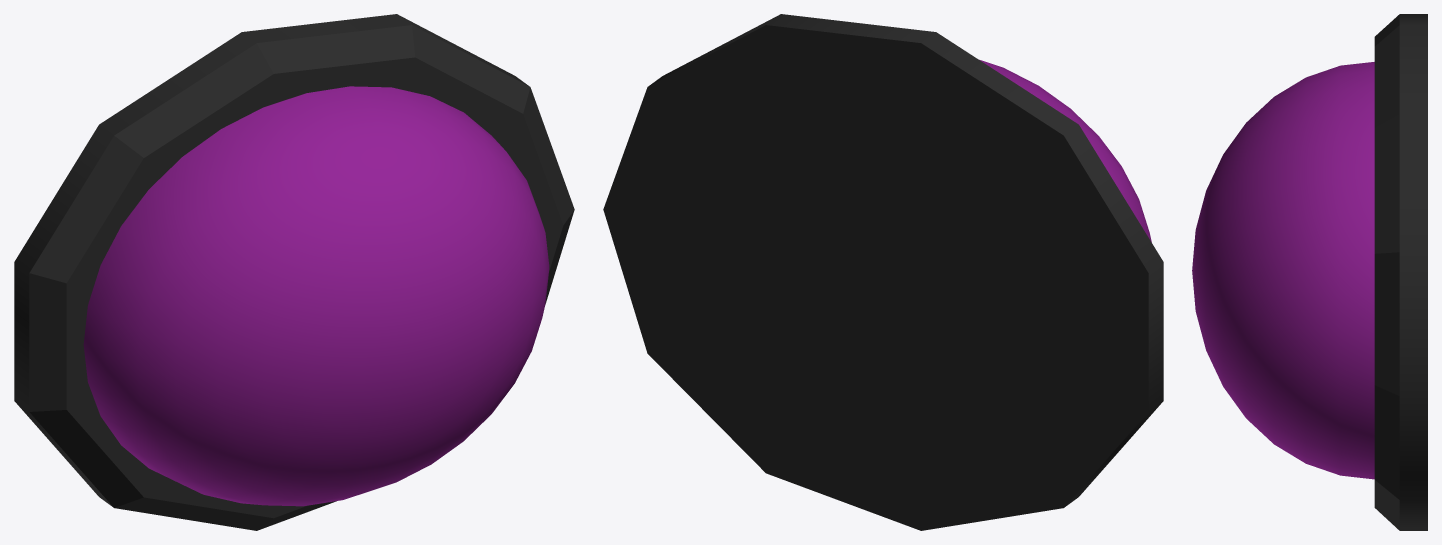
File: light.FBX
3 views of the same model, side by side, from view 1: azimuth 30°, elevation 25°; view 2: azimuth 150°, elevation 25°; view 3: azimuth 270°, elevation 25° (orthographic). The views are drawn at different scales.
Visible parts, largest first — view 1: Sphere005, Light; view 2: Light, Sphere005; view 3: Sphere005, Light.
Boxes of the visible parts, box(x1,y1,x2,y2) form: Sphere005: box(83, 86, 549, 506); Light: box(14, 14, 574, 530); Light: box(603, 14, 1163, 530); Sphere005: box(979, 59, 1151, 242); Sphere005: box(1192, 62, 1374, 479); Light: box(1374, 14, 1427, 530).
Size of the model in its own units: 1.79 by 1.53 by 0.7214.
